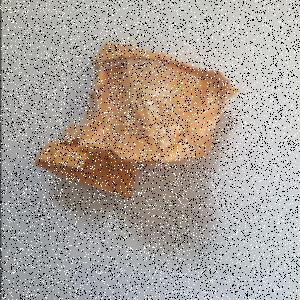Trash: (35, 42, 242, 200)
